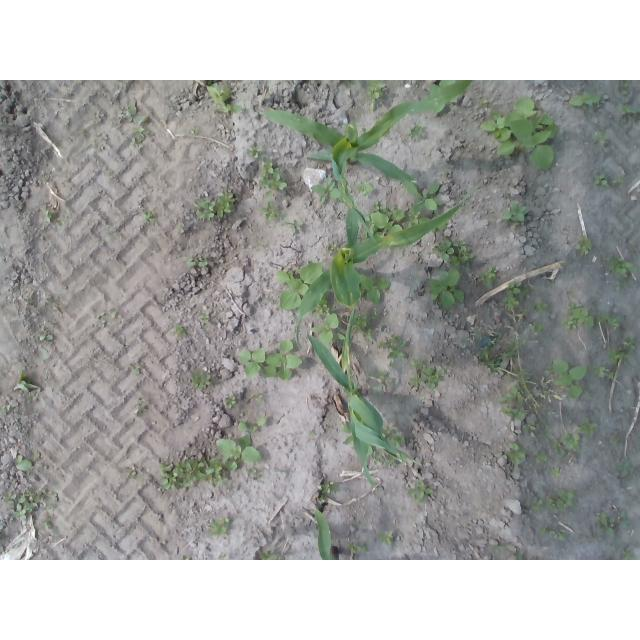Maize: (259, 80, 475, 245), (296, 184, 480, 346), (306, 333, 420, 491), (313, 508, 339, 560)
Weeds: (481, 96, 559, 172), (238, 339, 302, 381), (276, 261, 325, 312), (159, 457, 230, 490), (363, 201, 406, 243), (217, 435, 264, 473), (5, 488, 58, 520), (546, 359, 587, 399), (426, 268, 465, 309), (401, 177, 443, 215), (119, 104, 150, 149), (194, 189, 237, 221), (206, 80, 243, 116), (407, 358, 446, 391), (432, 239, 475, 268), (258, 156, 286, 199), (311, 313, 345, 348), (358, 274, 391, 305), (428, 81, 456, 116), (559, 302, 594, 330), (595, 508, 630, 536), (501, 280, 531, 310), (607, 337, 638, 365), (405, 212, 447, 232), (311, 178, 341, 205), (367, 444, 399, 468), (351, 312, 377, 341), (377, 334, 406, 360), (501, 200, 528, 226), (603, 256, 638, 276), (553, 434, 581, 459), (408, 479, 433, 505), (546, 489, 574, 512), (366, 80, 386, 112), (568, 91, 601, 110), (380, 425, 404, 449), (313, 291, 336, 316), (369, 370, 391, 394), (15, 450, 41, 470), (537, 526, 567, 543), (260, 201, 285, 221), (505, 443, 527, 465), (499, 385, 525, 403), (13, 371, 35, 392), (530, 378, 551, 399), (238, 417, 267, 432), (591, 364, 616, 381), (574, 236, 594, 257), (407, 122, 428, 141), (479, 266, 498, 287), (209, 517, 230, 536), (576, 417, 598, 435), (595, 313, 621, 328), (190, 370, 210, 389), (502, 407, 527, 422), (614, 459, 634, 477), (316, 480, 341, 494), (617, 104, 640, 119), (340, 422, 354, 446), (281, 219, 303, 234), (539, 419, 554, 440), (40, 323, 56, 342), (99, 311, 118, 326), (356, 180, 373, 196), (591, 130, 609, 144), (187, 254, 208, 266), (348, 540, 368, 552), (244, 145, 262, 158), (524, 498, 543, 510), (378, 531, 394, 545), (141, 210, 157, 224), (533, 450, 550, 463), (533, 297, 547, 311), (224, 395, 237, 409), (44, 209, 57, 223), (259, 550, 277, 560), (594, 174, 609, 186), (529, 321, 544, 333), (614, 279, 630, 290), (621, 549, 636, 560), (326, 243, 339, 254), (174, 325, 186, 336), (128, 472, 142, 481), (551, 467, 562, 478), (1, 405, 12, 416), (612, 175, 624, 185), (522, 423, 537, 431), (494, 544, 507, 553), (135, 405, 146, 414), (255, 393, 264, 404), (201, 313, 210, 324), (132, 365, 141, 375), (480, 100, 490, 108), (44, 519, 52, 529), (343, 80, 361, 84), (515, 552, 523, 561), (620, 80, 629, 88), (310, 430, 319, 437), (191, 129, 200, 135), (319, 497, 326, 504), (361, 128, 369, 133)
